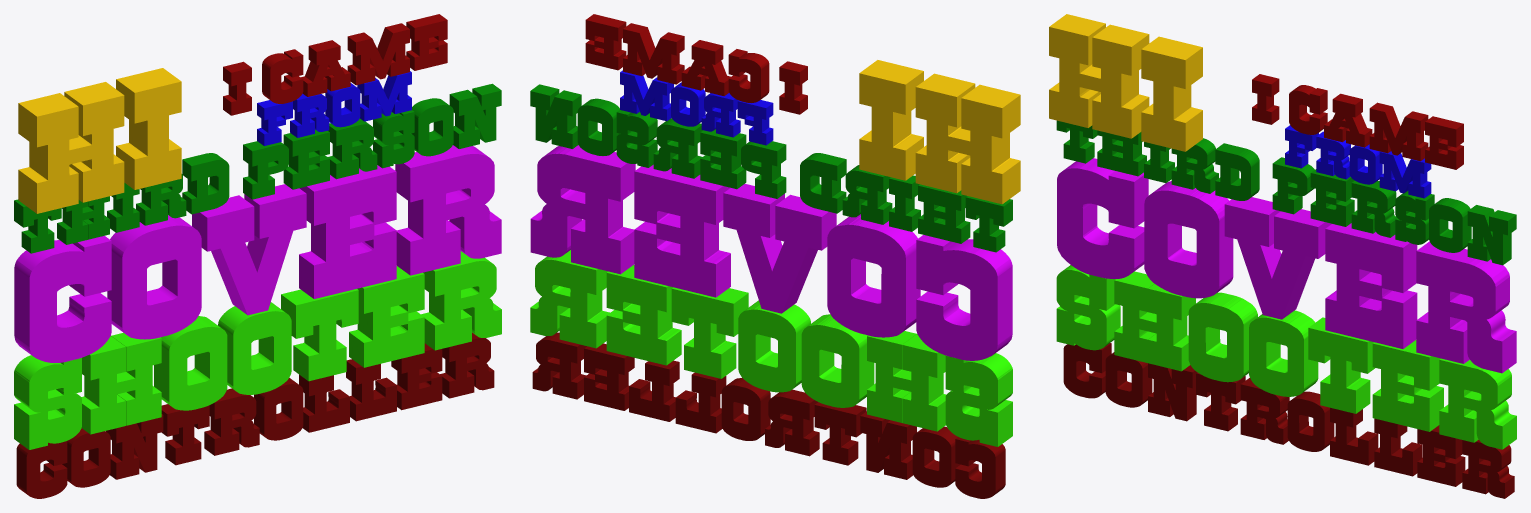
Rendered from 3dtext.FBX.
The picture shows the model from 3 angles, left to right: view 1: azimuth 30°, elevation 25°; view 2: azimuth 150°, elevation 25°; view 3: azimuth 330°, elevation 25°; orthographic projection. The views are drawn at different scales.
Parts seen in each view (by area): view 1: Text011, Text010, Text012, Text009, Text006, Text007, Text008; view 2: Text011, Text010, Text012, Text009, Text006, Text007, Text008; view 3: Text011, Text010, Text012, Text009, Text006, Text007, Text008.
Boxes of the visible parts, x1,y1,x2,y2 form: Text011: [14, 145, 501, 362]; Text010: [14, 251, 501, 449]; Text012: [16, 332, 494, 498]; Text009: [14, 83, 501, 253]; Text006: [18, 68, 181, 213]; Text007: [223, 14, 447, 115]; Text008: [257, 71, 411, 145]; Text011: [530, 145, 1012, 360]; Text010: [530, 250, 1012, 446]; Text012: [532, 332, 1005, 498]; Text009: [530, 84, 1012, 252]; Text006: [859, 60, 1020, 204]; Text007: [585, 14, 807, 114]; Text008: [620, 70, 773, 145]; Text011: [1057, 158, 1516, 373]; Text010: [1056, 265, 1516, 449]; Text012: [1063, 343, 1514, 498]; Text009: [1056, 120, 1516, 265]; Text006: [1049, 14, 1202, 151]; Text007: [1252, 74, 1463, 169]; Text008: [1285, 125, 1431, 198].
Bounding box in the file's own units: 1253 × 992 × 104.
